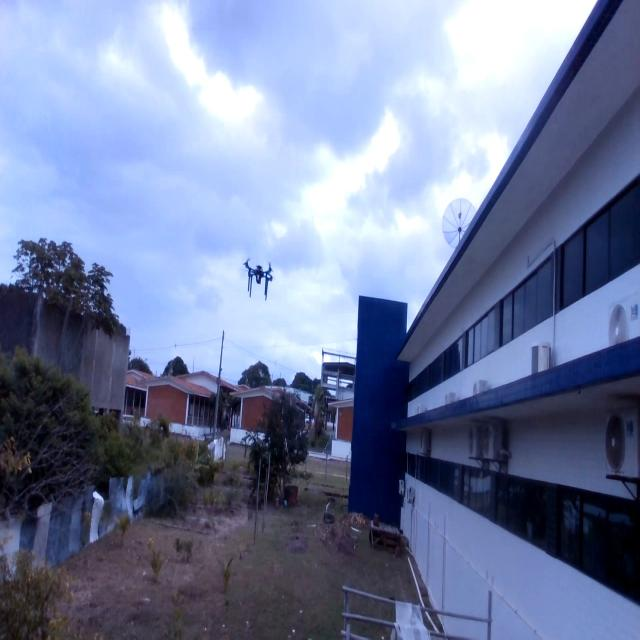-uav-: (238, 248, 278, 312)
